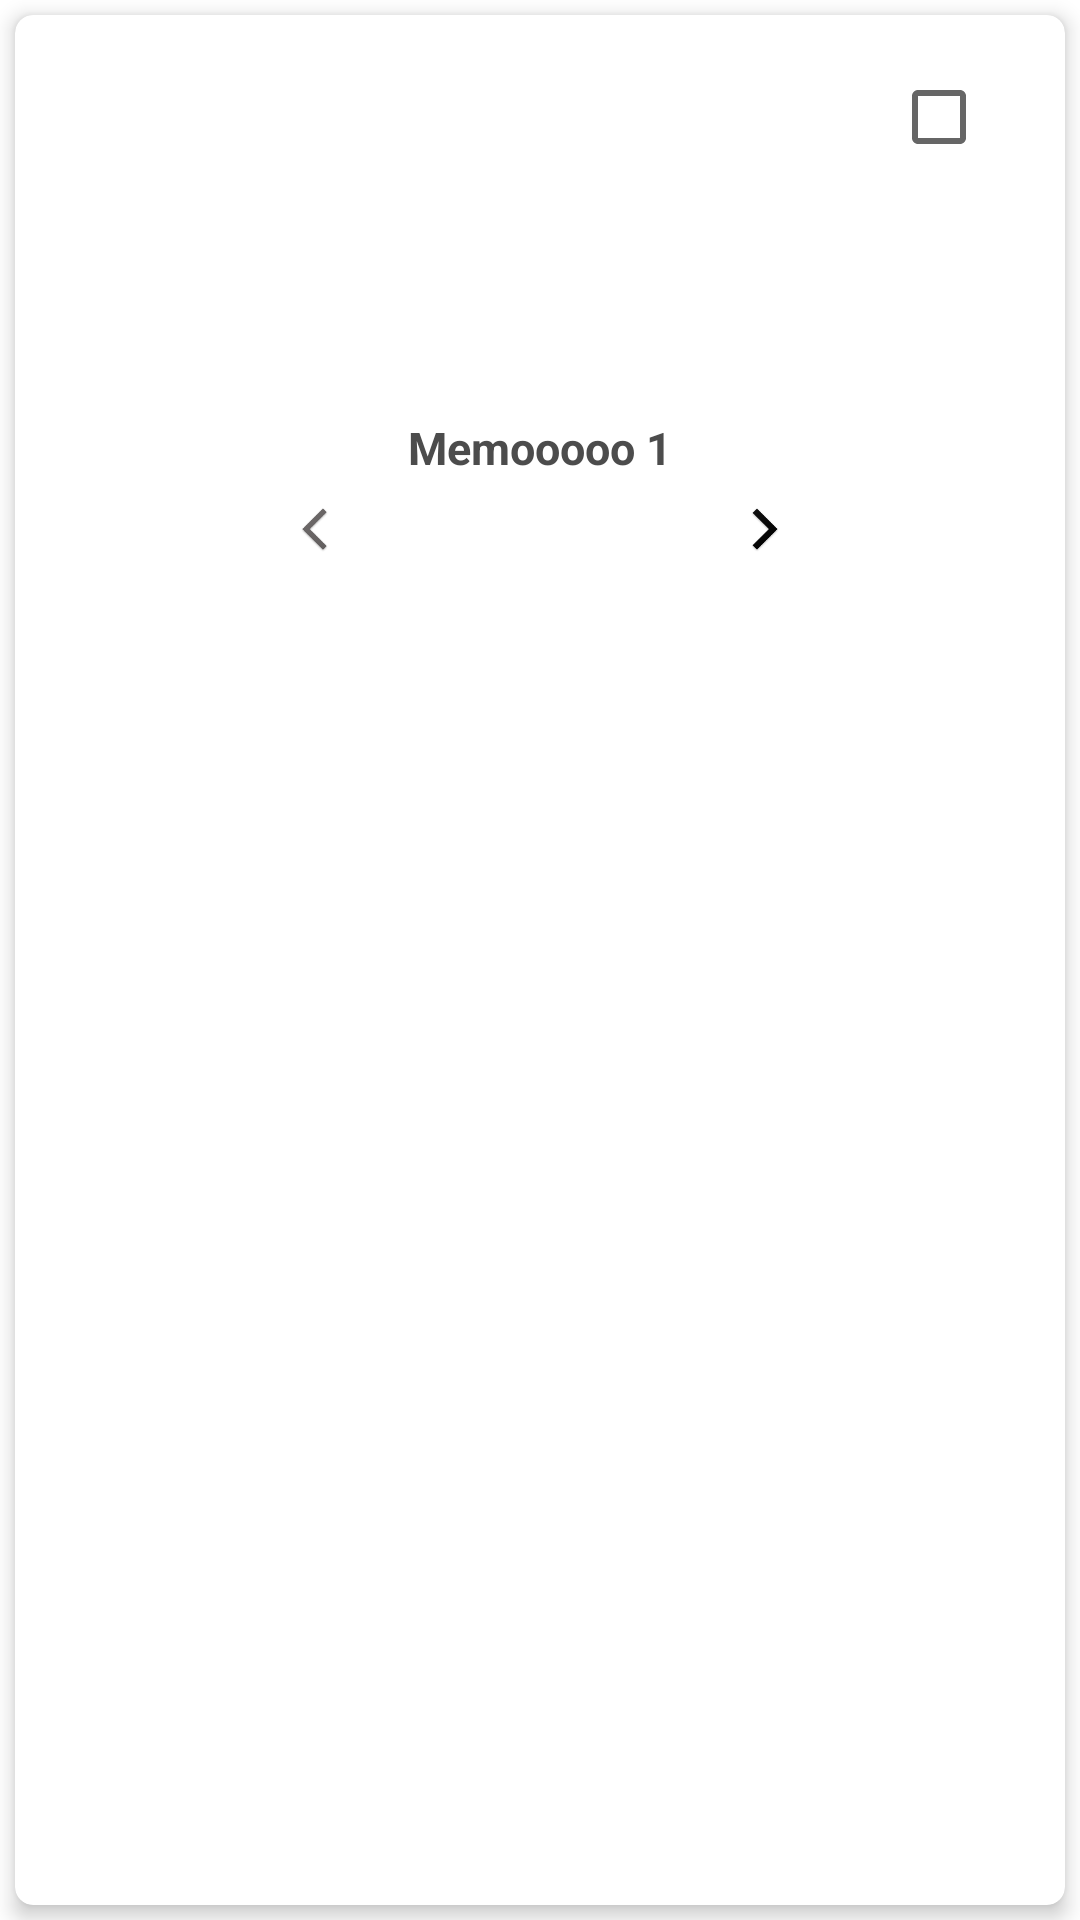

Locate icon controls on the screen. Image size 1080px x 1920px, boxes as (x1, y1, x2, y2).
faint back: (302, 508, 327, 550)
front: (752, 509, 778, 550)
